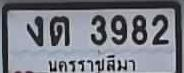2: (151, 13, 167, 44)
3: (90, 14, 106, 44)
8: (131, 14, 146, 44)
9: (110, 14, 126, 44)
A07: (26, 15, 43, 46)
A21: (49, 15, 69, 45)
NMA: (46, 54, 140, 73)
